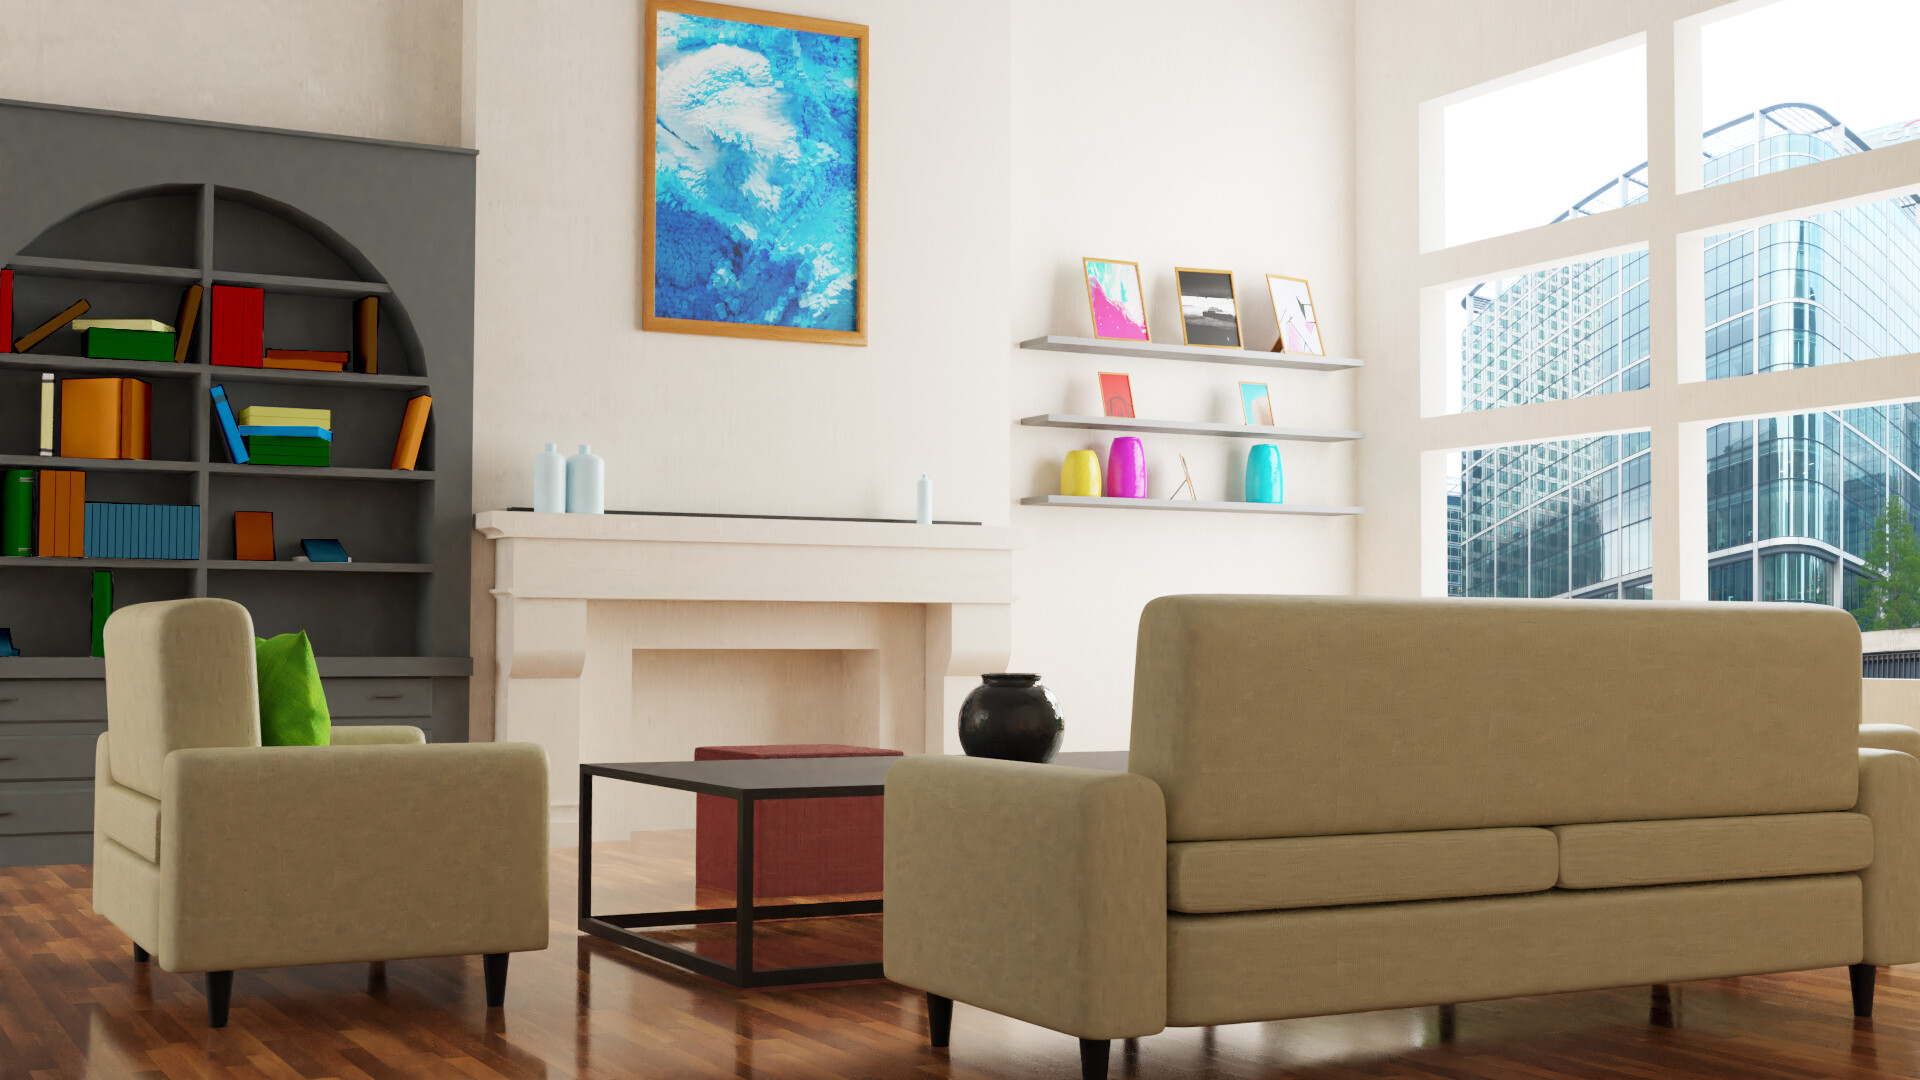biru: (82, 501, 208, 555), (1244, 442, 1275, 501)
coklat: (703, 742, 884, 895)
hijau: (252, 629, 339, 745), (88, 327, 175, 363), (251, 438, 332, 464)
hitam: (956, 671, 1059, 753)
kuning: (1062, 452, 1097, 495)
merah: (211, 284, 265, 363)
orange: (61, 376, 148, 462), (398, 397, 431, 471)
pink: (1109, 440, 1147, 497)
